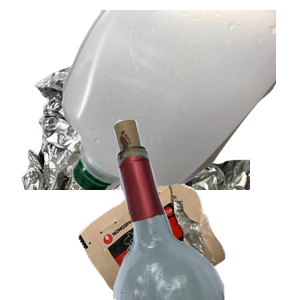glass: (89, 120, 300, 300)
metal: (19, 14, 259, 194)
plastic: (60, 10, 300, 190)
trash: (76, 170, 300, 300)
